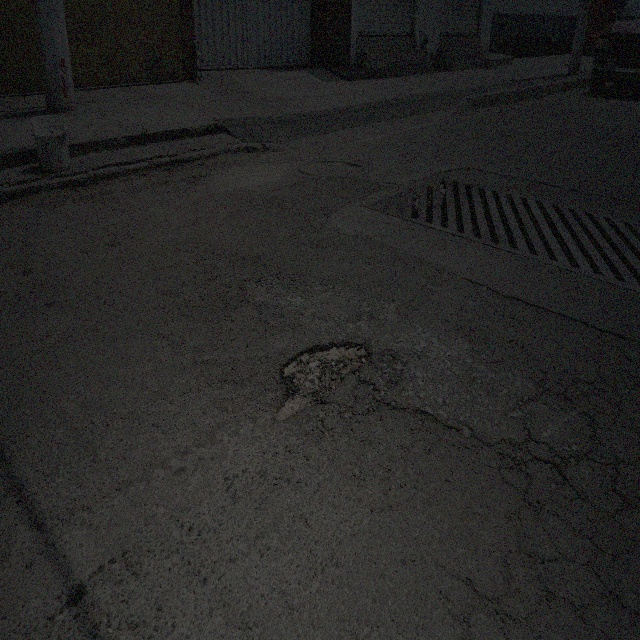pothole: (274, 338, 372, 428), (456, 420, 474, 439)
